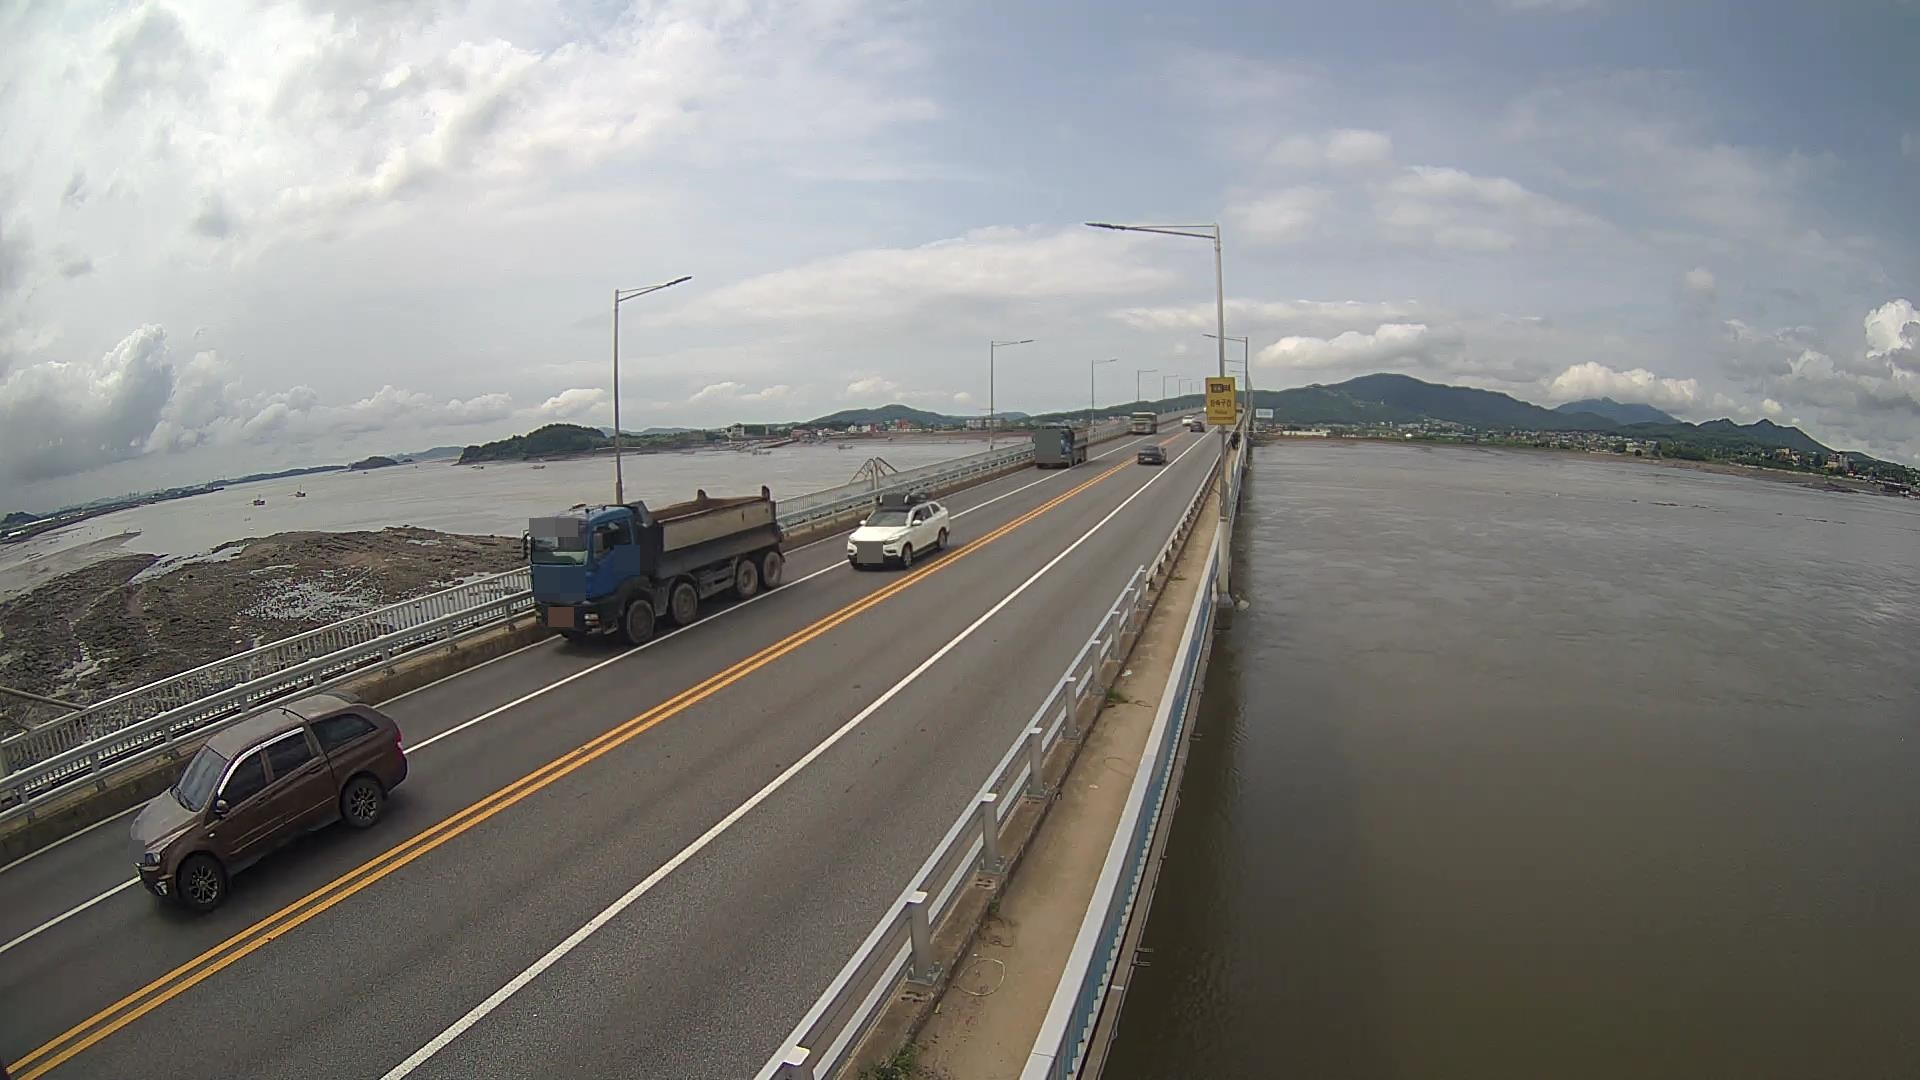정상차량: (522, 485, 786, 644)
